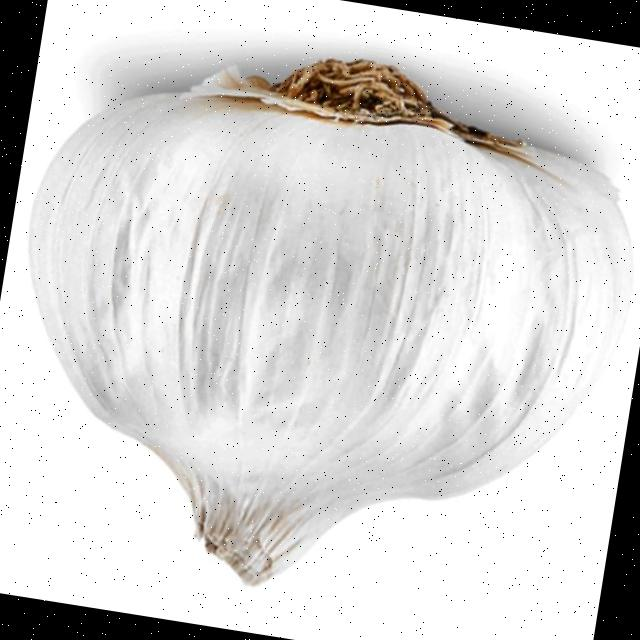garlic: (29, 61, 631, 583)
